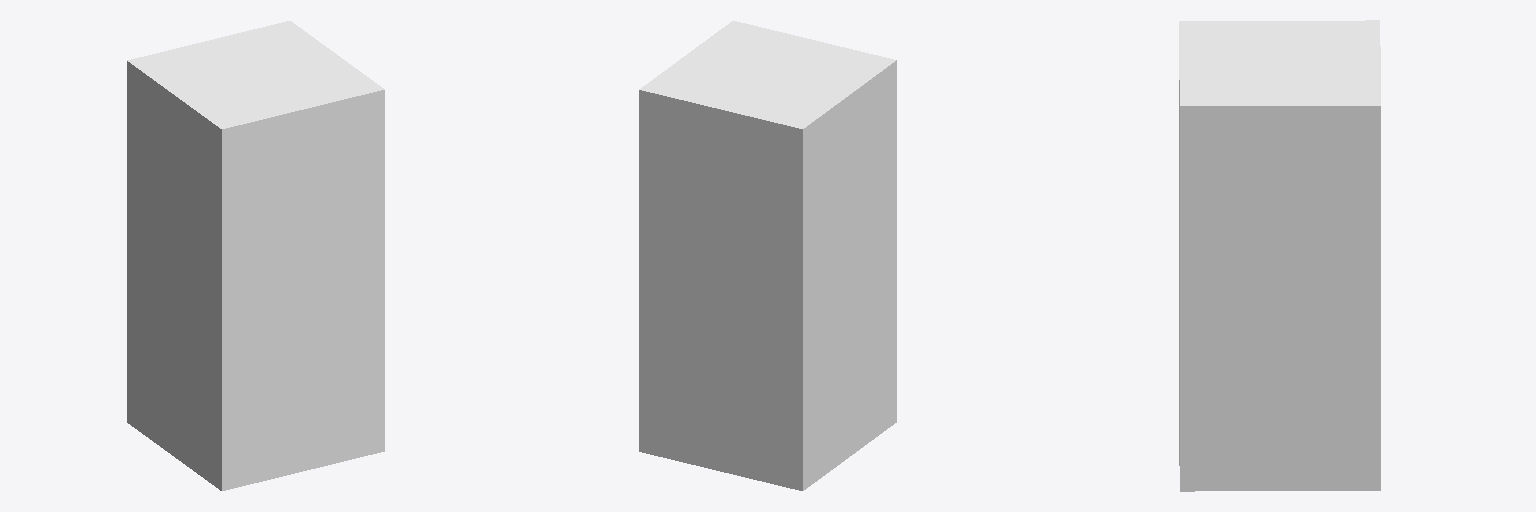
URDF robot description (hrp2_trunk):
<robot name="hrp2_trunk">
  <link name="base_link">
    <visual>
      <origin xyz="0 0 0" rpy="0 0 0.003" />
      <geometry>
        <mesh filename="package://hpp-rbprm-corba/meshes/hrp2_trunk.stl"/>
      </geometry>
      <material name="white">
        <color rgba="1 1 1 1"/>
      </material>
    </visual>
    <collision>
      <origin xyz="0 0 0" rpy="0 0 0.003" />
      <geometry>
        <mesh filename="package://hpp-rbprm-corba/meshes/hrp2_trunk.stl"/>
      </geometry>
    </collision>
  </link>
</robot>

--- Render facts (derived) ---
The picture shows the robot from 3 angles, left to right: view 1: azimuth 30°, elevation 25°; view 2: azimuth 150°, elevation 25°; view 3: azimuth 270°, elevation 25°; orthographic projection.
Robot: hrp2_trunk — 1 links, 0 joints (none); root link base_link; default pose: all joints at 0.
Visible links, largest first — view 1: base_link; view 2: base_link; view 3: base_link.
Boxes of the visible links, box(x1,y1,x2,y2) form: base_link: box(127, 21, 384, 490); base_link: box(639, 21, 896, 490); base_link: box(1179, 20, 1380, 491).
Size in the robot's own frame: 0.5359 by 0.5359 by 1.13 metres.
1 mesh visuals loaded from 1 distinct referenced files (1 binary STL).